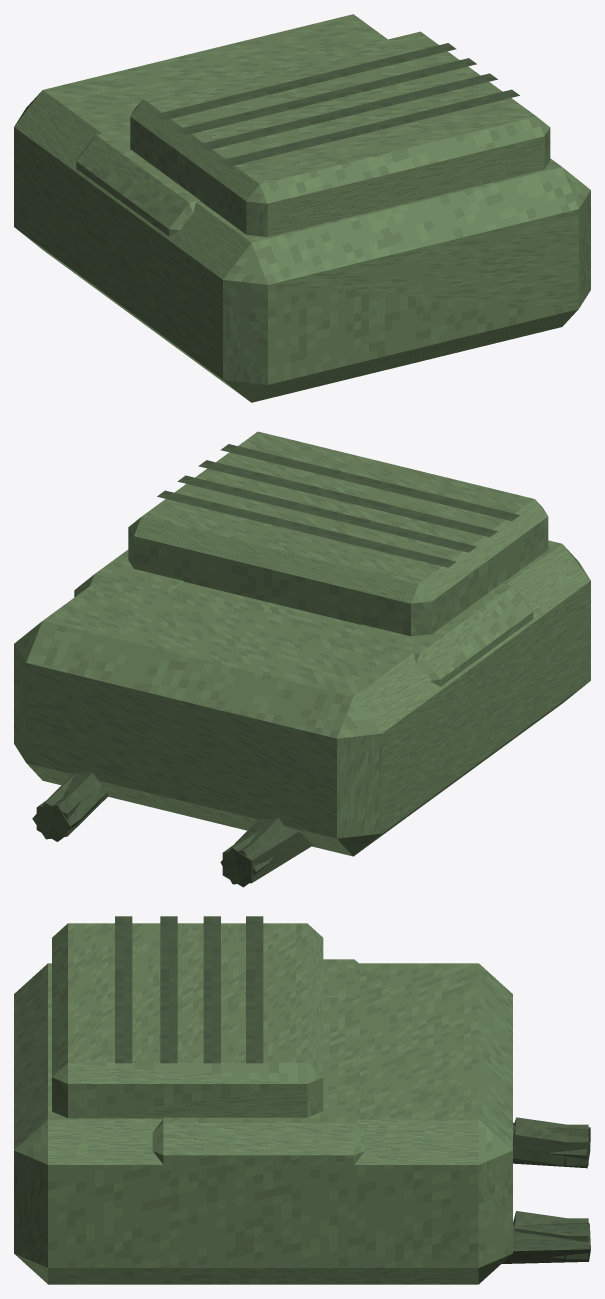
File: backpack_tactical_large.glb
3 views of the same model, one above another, from view 1: azimuth 30°, elevation 25°; view 2: azimuth 150°, elevation 25°; view 3: azimuth 270°, elevation 25° (orthographic). The views are drawn at different scales.
Visible parts, largest first — view 1: block_soft-sided bag, block_front compartment, block_horizontal load-webbing row (×4), block_padded side compartments; view 2: block_soft-sided bag, block_front compartment, block_horizontal load-webbing row (×4), block_padded side compartments (×2), block_webbing strap 2 (×2), block_webbing strap 0 (×2), block_webbing strap 1 (×2); view 3: block_soft-sided bag, block_front compartment, block_padded side compartments (×2), block_horizontal load-webbing row (×4), block_webbing strap 2 (×2), block_webbing strap 0 (×2), block_webbing strap 1.
Part boxes in pixels (x1,y1,x2,y2): block_soft-sided bag: [14, 14, 590, 402]; block_front compartment: [130, 31, 550, 236]; block_horizontal load-webbing row (×4): [157, 43, 519, 166]; block_padded side compartments: [76, 127, 200, 236]; block_soft-sided bag: [14, 540, 590, 856]; block_front compartment: [128, 431, 548, 636]; block_horizontal load-webbing row (×4): [157, 444, 519, 567]; block_padded side compartments (×2): [74, 549, 533, 686]; block_webbing strap 2 (×2): [32, 773, 313, 884]; block_webbing strap 0 (×2): [47, 772, 286, 865]; block_webbing strap 1 (×2): [36, 798, 266, 887]; block_soft-sided bag: [14, 963, 512, 1284]; block_front compartment: [52, 923, 323, 1118]; block_padded side compartments (×2): [152, 959, 364, 1227]; block_horizontal load-webbing row (×4): [115, 916, 263, 1063]; block_webbing strap 2 (×2): [502, 1122, 590, 1263]; block_webbing strap 0 (×2): [513, 1117, 567, 1258]; block_webbing strap 1: [566, 1124, 588, 1165].
Bounding box in the file's own units: 0.3953 × 0.2213 × 0.5204.
Materials: 1 (1 with a texture image).
